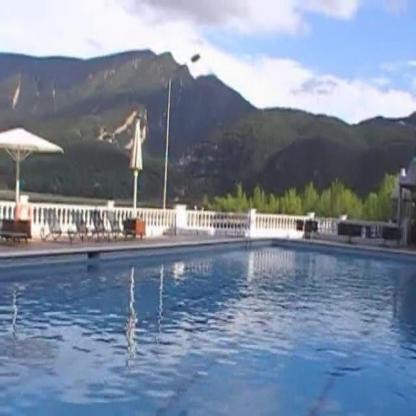other: (29, 194, 308, 240)
